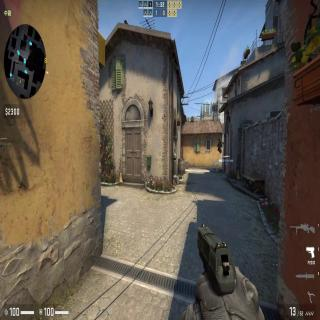T-Body: (216, 139, 222, 154)
T-Head: (218, 138, 220, 142)
